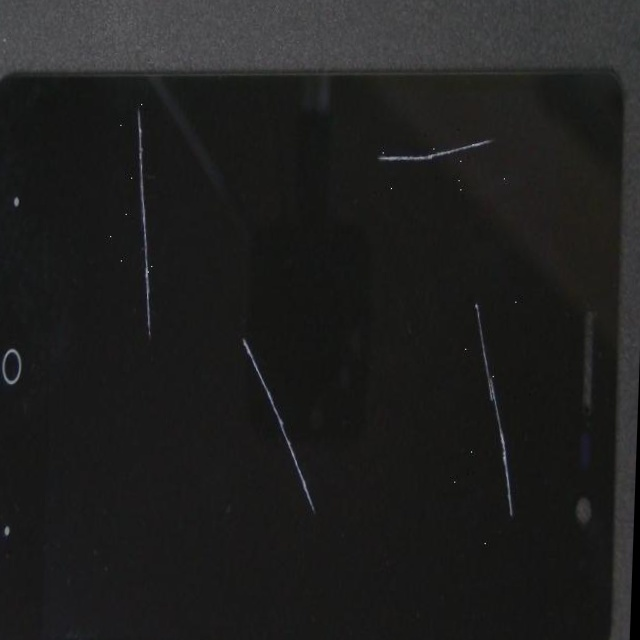scratch: (183, 1, 640, 570), (44, 70, 418, 632), (174, 30, 580, 254), (69, 16, 212, 175)
